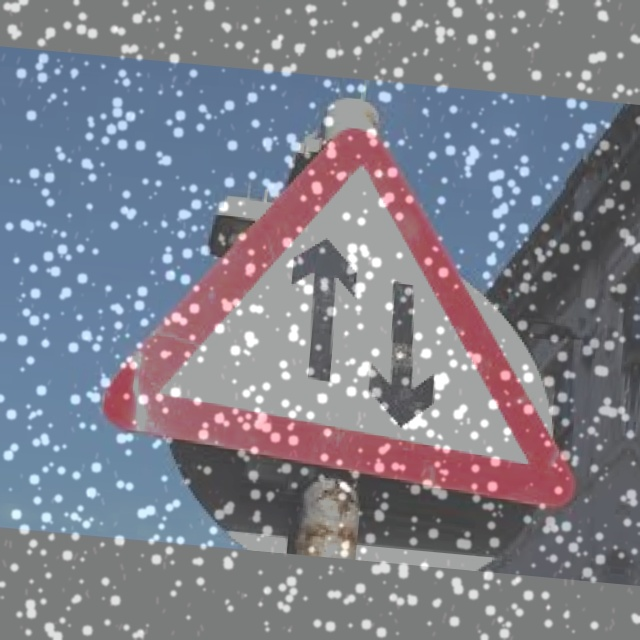Mandatory_Two_Way_Traffic: (103, 109, 609, 514)
